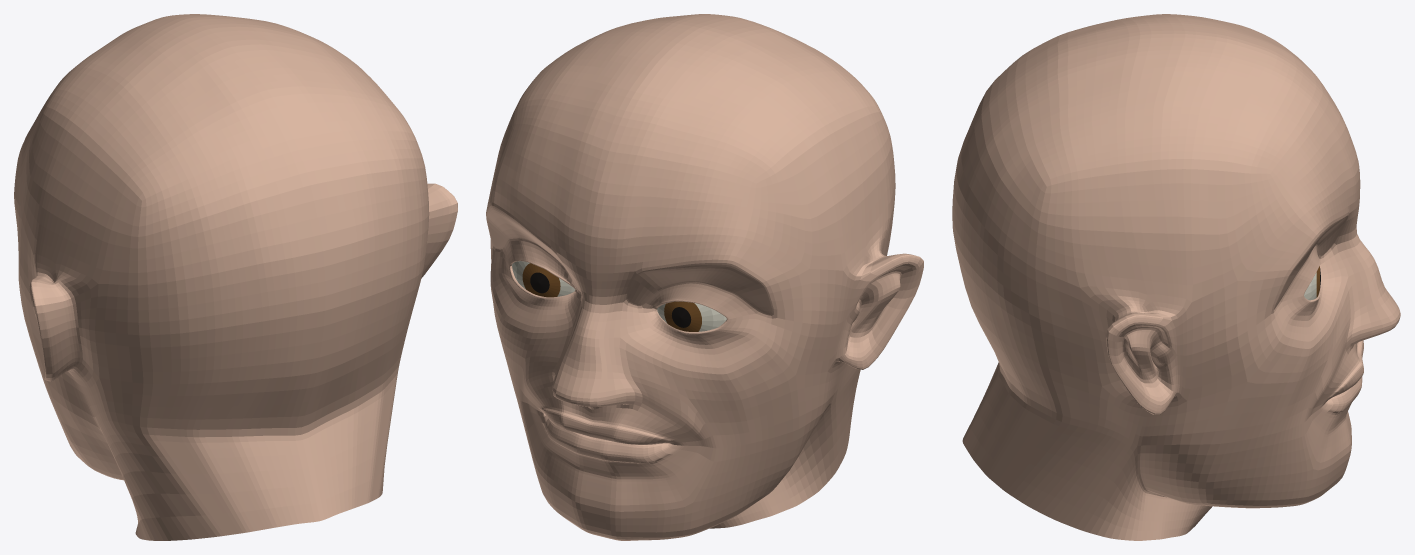
File: BaseFace_morph_testHighpoly_01.glb
3 views of the same model, side by side, from view 1: azimuth 30°, elevation 25°; view 2: azimuth 150°, elevation 25°; view 3: azimuth 270°, elevation 25° (orthographic).
Visible parts, largest first — view 1: BaseFace_highPoly; view 2: BaseFace_highPoly, BaseEye_left, BaseEye_right; view 3: BaseFace_highPoly.
Boxes of the visible parts, <box> form: BaseFace_highPoly: <box>14,14,457,540</box>; BaseFace_highPoly: <box>486,14,923,540</box>; BaseEye_left: <box>657,301,726,331</box>; BaseEye_right: <box>512,261,575,297</box>; BaseFace_highPoly: <box>952,14,1400,540</box>.
Bounding box in the file's own units: 2.29 × 2.5 × 2.11.
